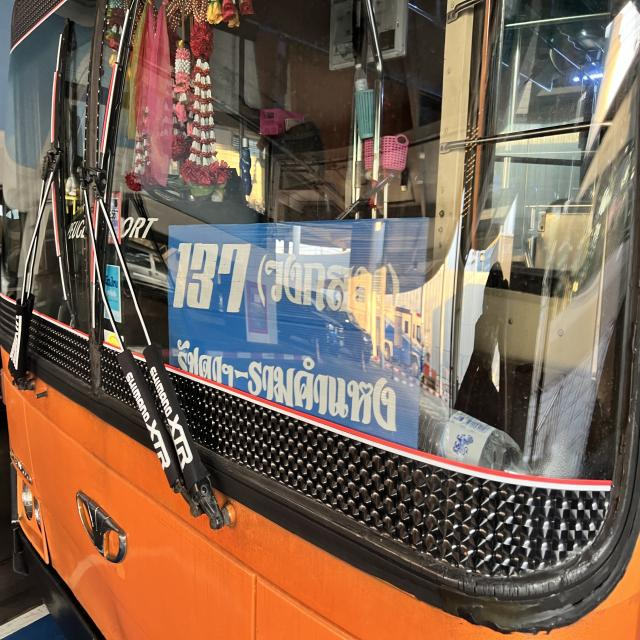BMTA-bus: (0, 0, 640, 640)
Destination-Sign-Normal: (167, 217, 426, 449)
